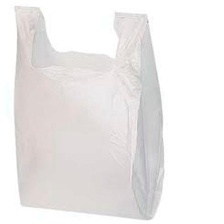plastic_bag: (8, 2, 167, 223)
